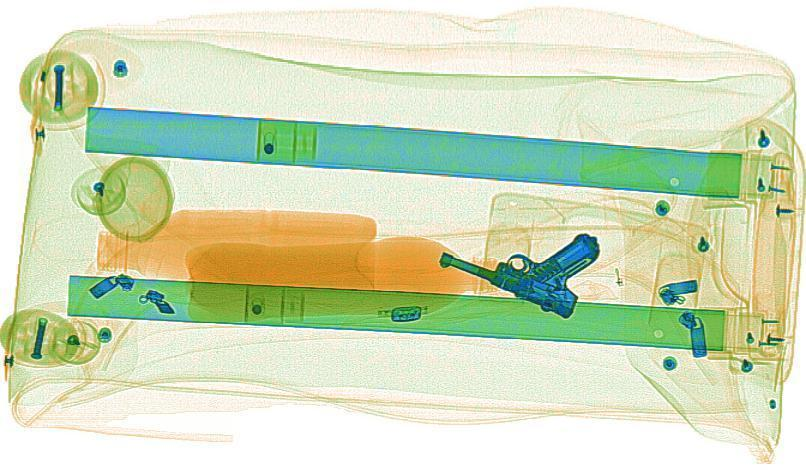Gun: (419, 217, 603, 319)
